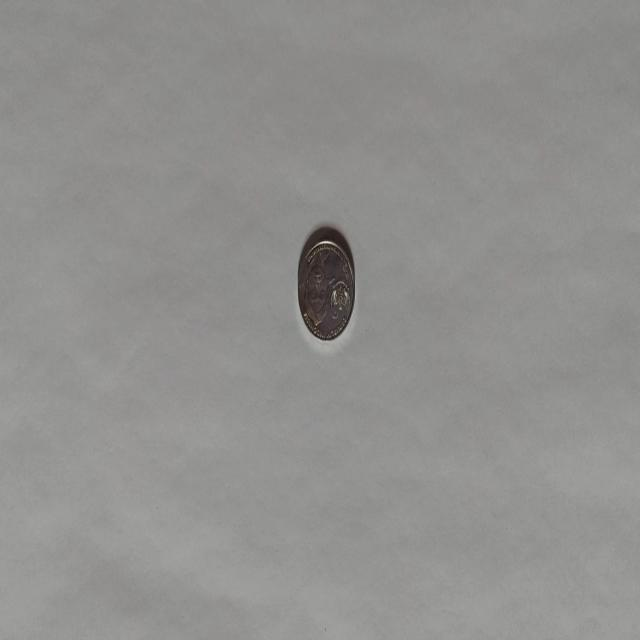dua ratus rupiah: (296, 234, 356, 342)
